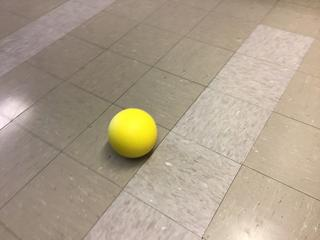power_cell: (106, 103, 160, 162)
